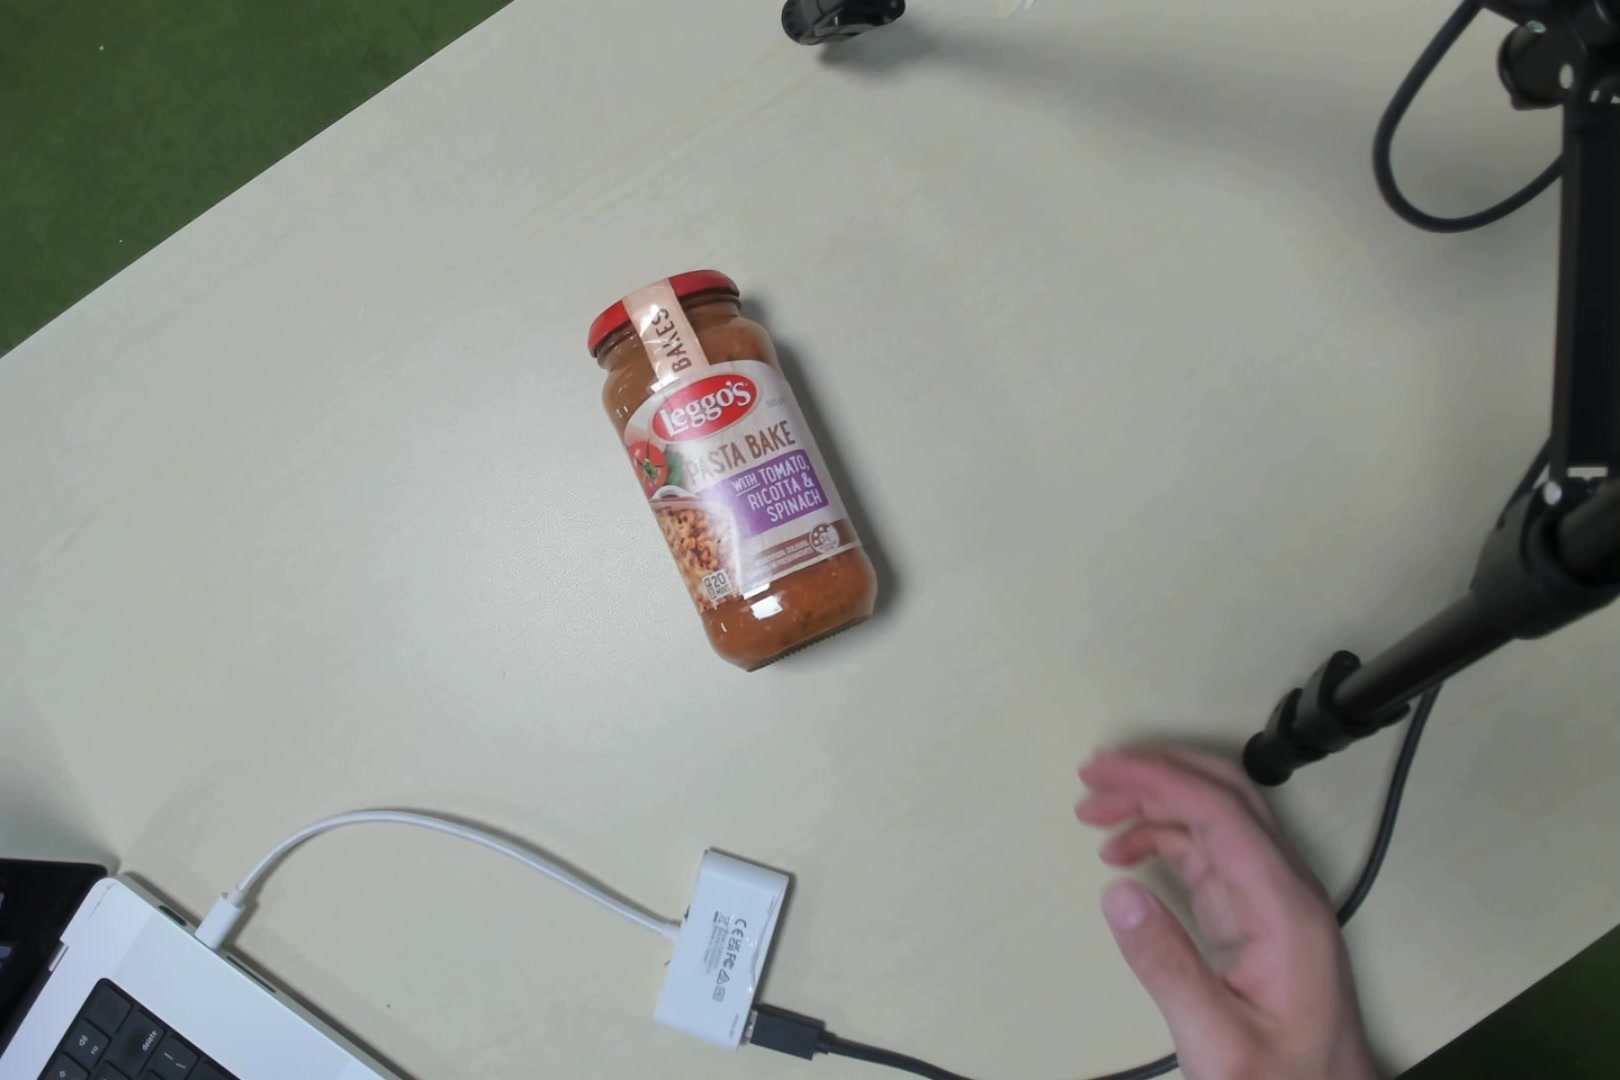Pasta_500-599g_Halal_NonHealthy: (617, 287, 847, 644)
